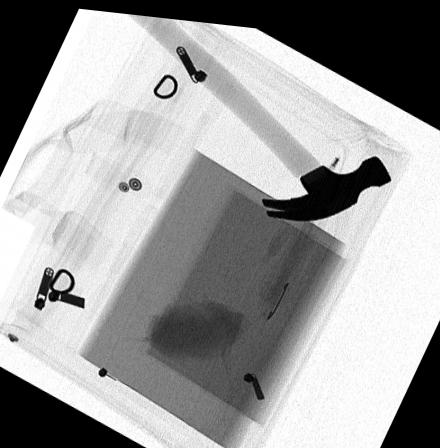Hammer: (125, 11, 392, 214)
